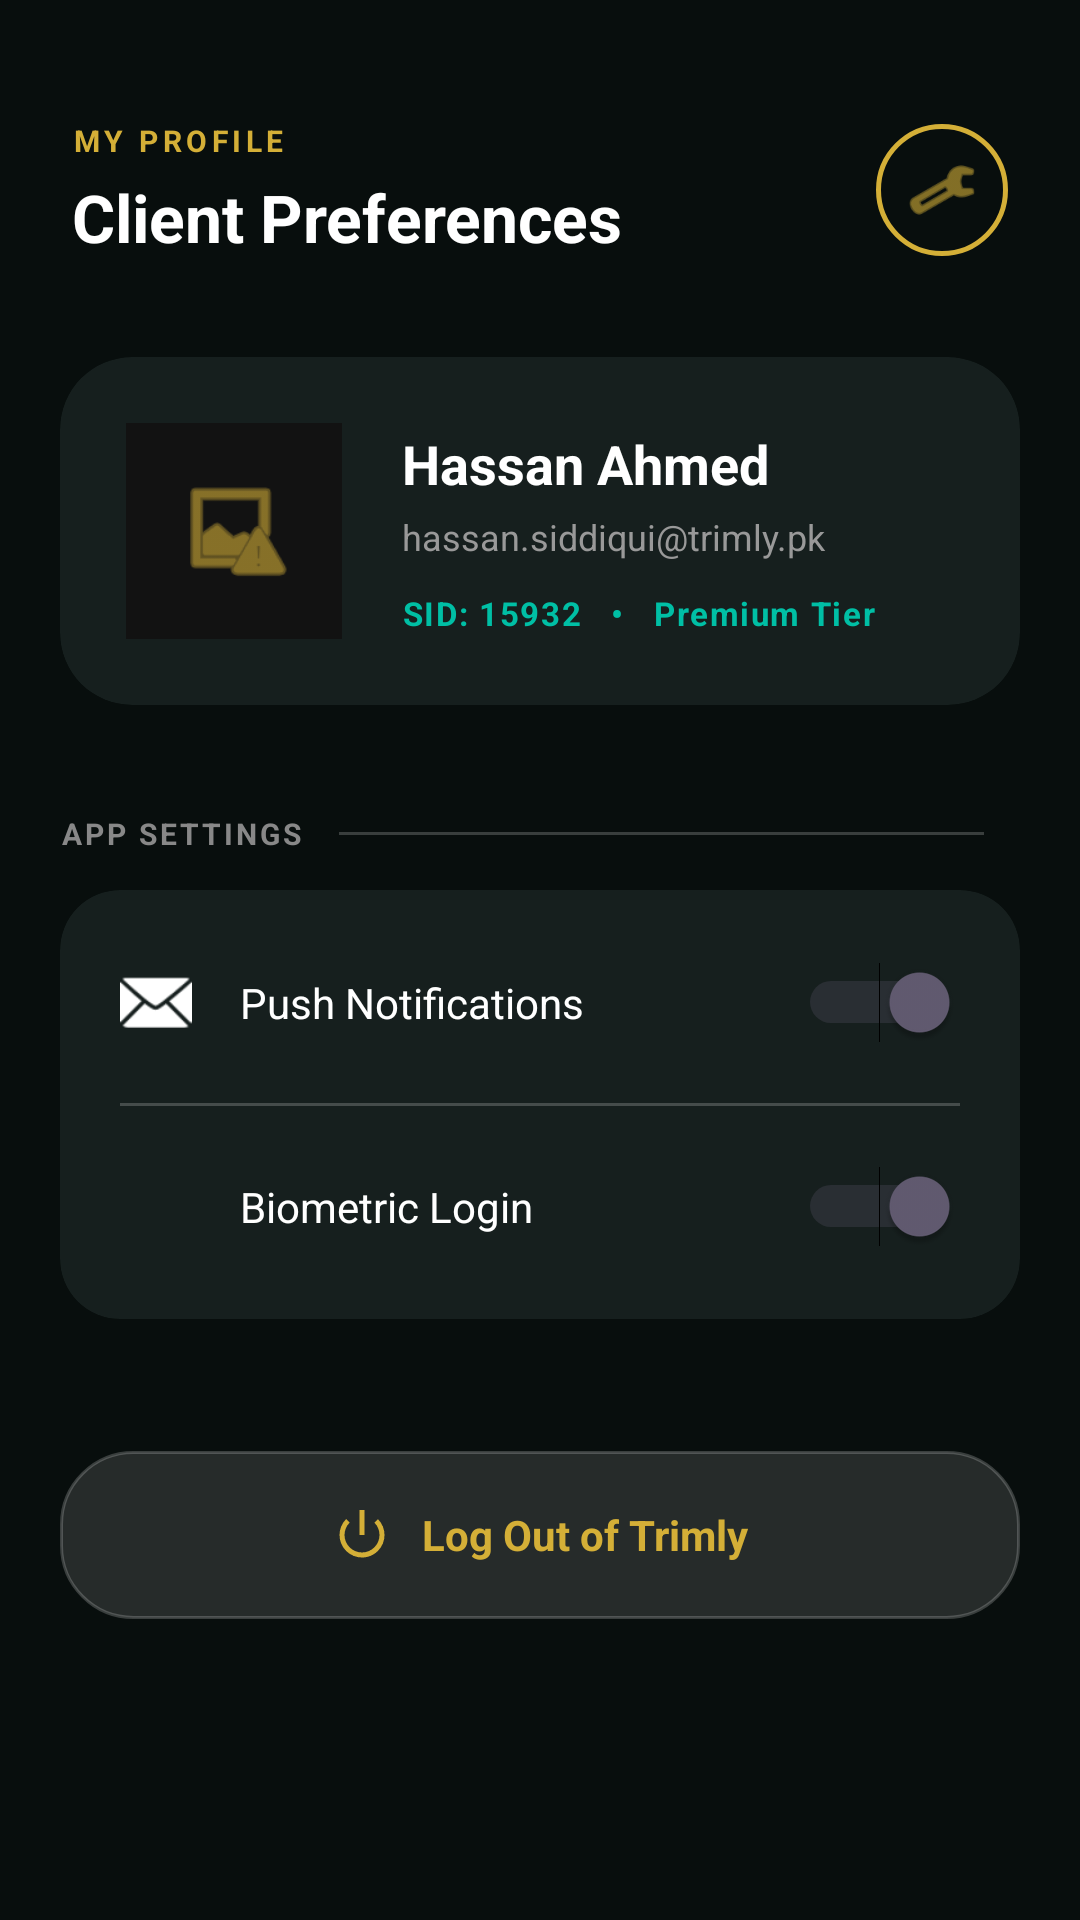

Icon click points for this 1080x1920 phone screenshot, format [x,y]:
email: [156,1002]
lock power off: [362,1534]
preferences: [942,190]
